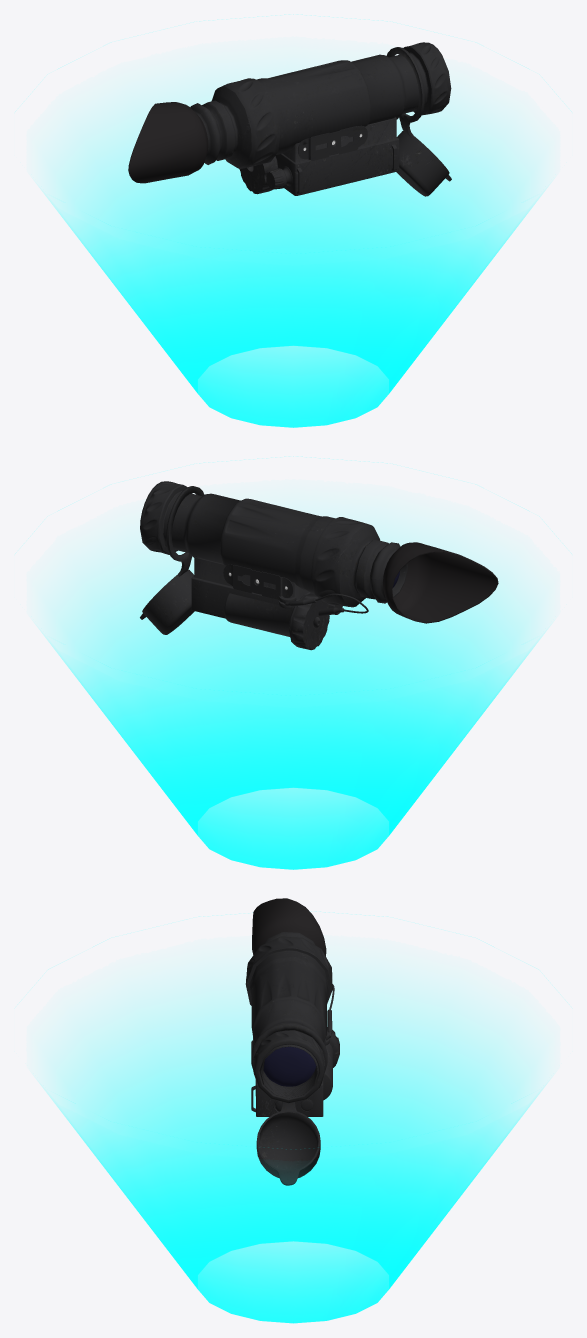
Rendered from SuperSoldierMono.glb.
3 views of the same model, one above another, from view 1: azimuth 30°, elevation 25°; view 2: azimuth 150°, elevation 25°; view 3: azimuth 270°, elevation 25° (orthographic).
Visible parts, largest first — view 1: Cylinder001, Line016; view 2: Cylinder001, Line016; view 3: Cylinder001, Line016.
Boxes of the visible parts, bbox=[...] form: Cylinder001: bbox=[44, 95, 542, 427]; Line016: bbox=[128, 42, 451, 196]; Cylinder001: bbox=[44, 539, 542, 869]; Line016: bbox=[140, 481, 498, 650]; Cylinder001: bbox=[45, 988, 541, 1323]; Line016: bbox=[245, 898, 339, 1185].
Bounding box in the file's own units: 0.1783 × 0.1096 × 0.1756.
Materials: 2 (2 with a texture image).
